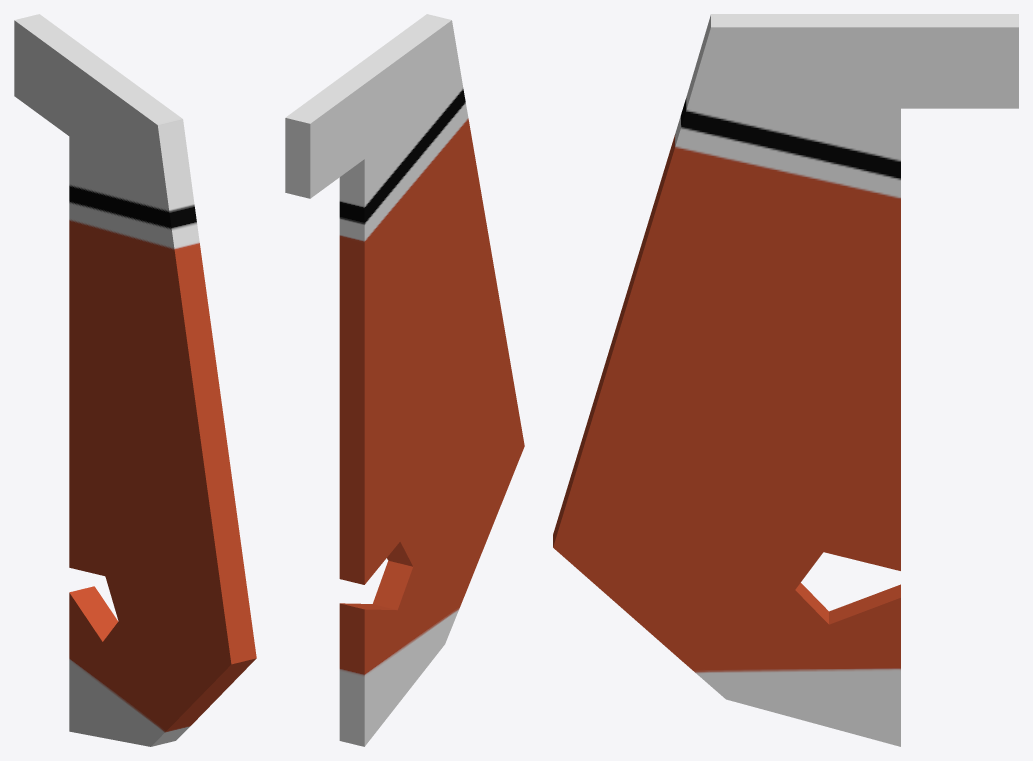
The model's file is Rudder.glb.
3 renders of one model, left to right at view 1: azimuth 30°, elevation 25°; view 2: azimuth 150°, elevation 25°; view 3: azimuth 270°, elevation 25°, orthographic. The views are drawn at different scales.
Visible parts, largest first — view 1: Rudder; view 2: Rudder; view 3: Rudder.
Part boxes in pixels (left/top/right/bottom): Rudder: left=14, top=14, right=256, bottom=746; Rudder: left=285, top=14, right=524, bottom=746; Rudder: left=553, top=14, right=1018, bottom=746.
Bounding box in the file's own units: 0.005 × 0.1266 × 0.0743.
Materials: 1 (1 with a texture image).
